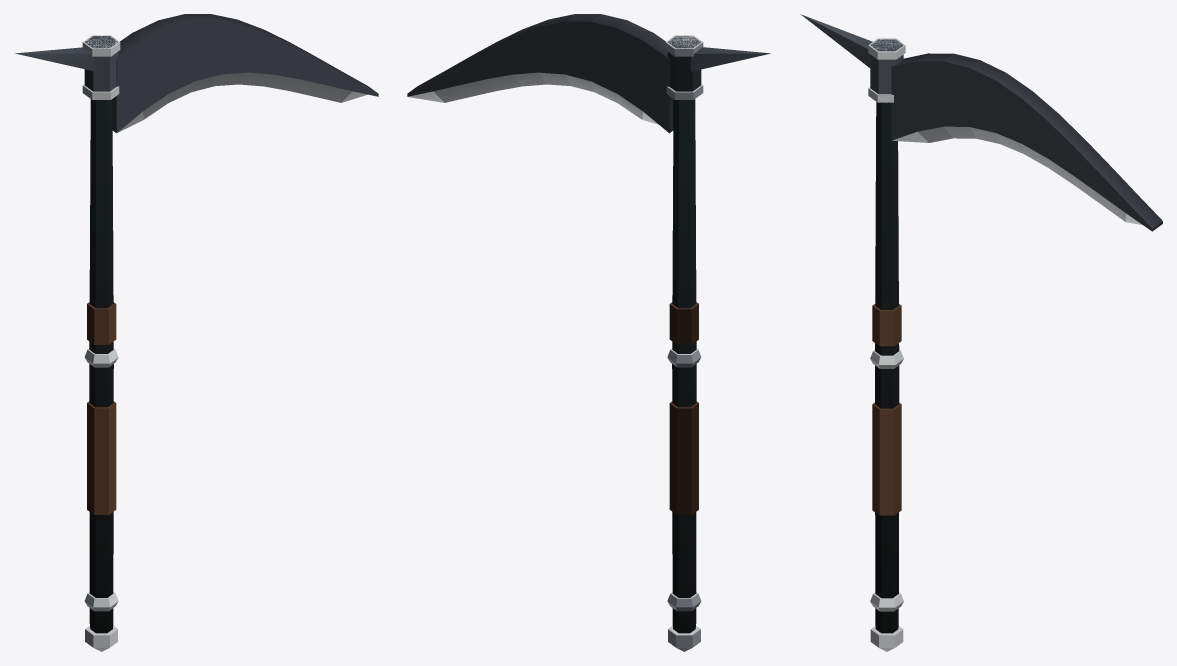
Rendered from barb_scythe_2.gltf.
3 views of the same model, side by side, from view 1: azimuth 30°, elevation 25°; view 2: azimuth 150°, elevation 25°; view 3: azimuth 330°, elevation 25° (orthographic).
Parts seen in each view (by area): view 1: barb_scythe_2; view 2: barb_scythe_2; view 3: barb_scythe_2.
Boxes of the visible parts, x1=… form: barb_scythe_2: x1=15, y1=14, x2=378, y2=651; barb_scythe_2: x1=407, y1=14, x2=770, y2=651; barb_scythe_2: x1=800, y1=14, x2=1162, y2=651.
Size of the model in its own units: 1.48 by 2.44 by 0.1344.
Materials: 1 (1 with a texture image).
